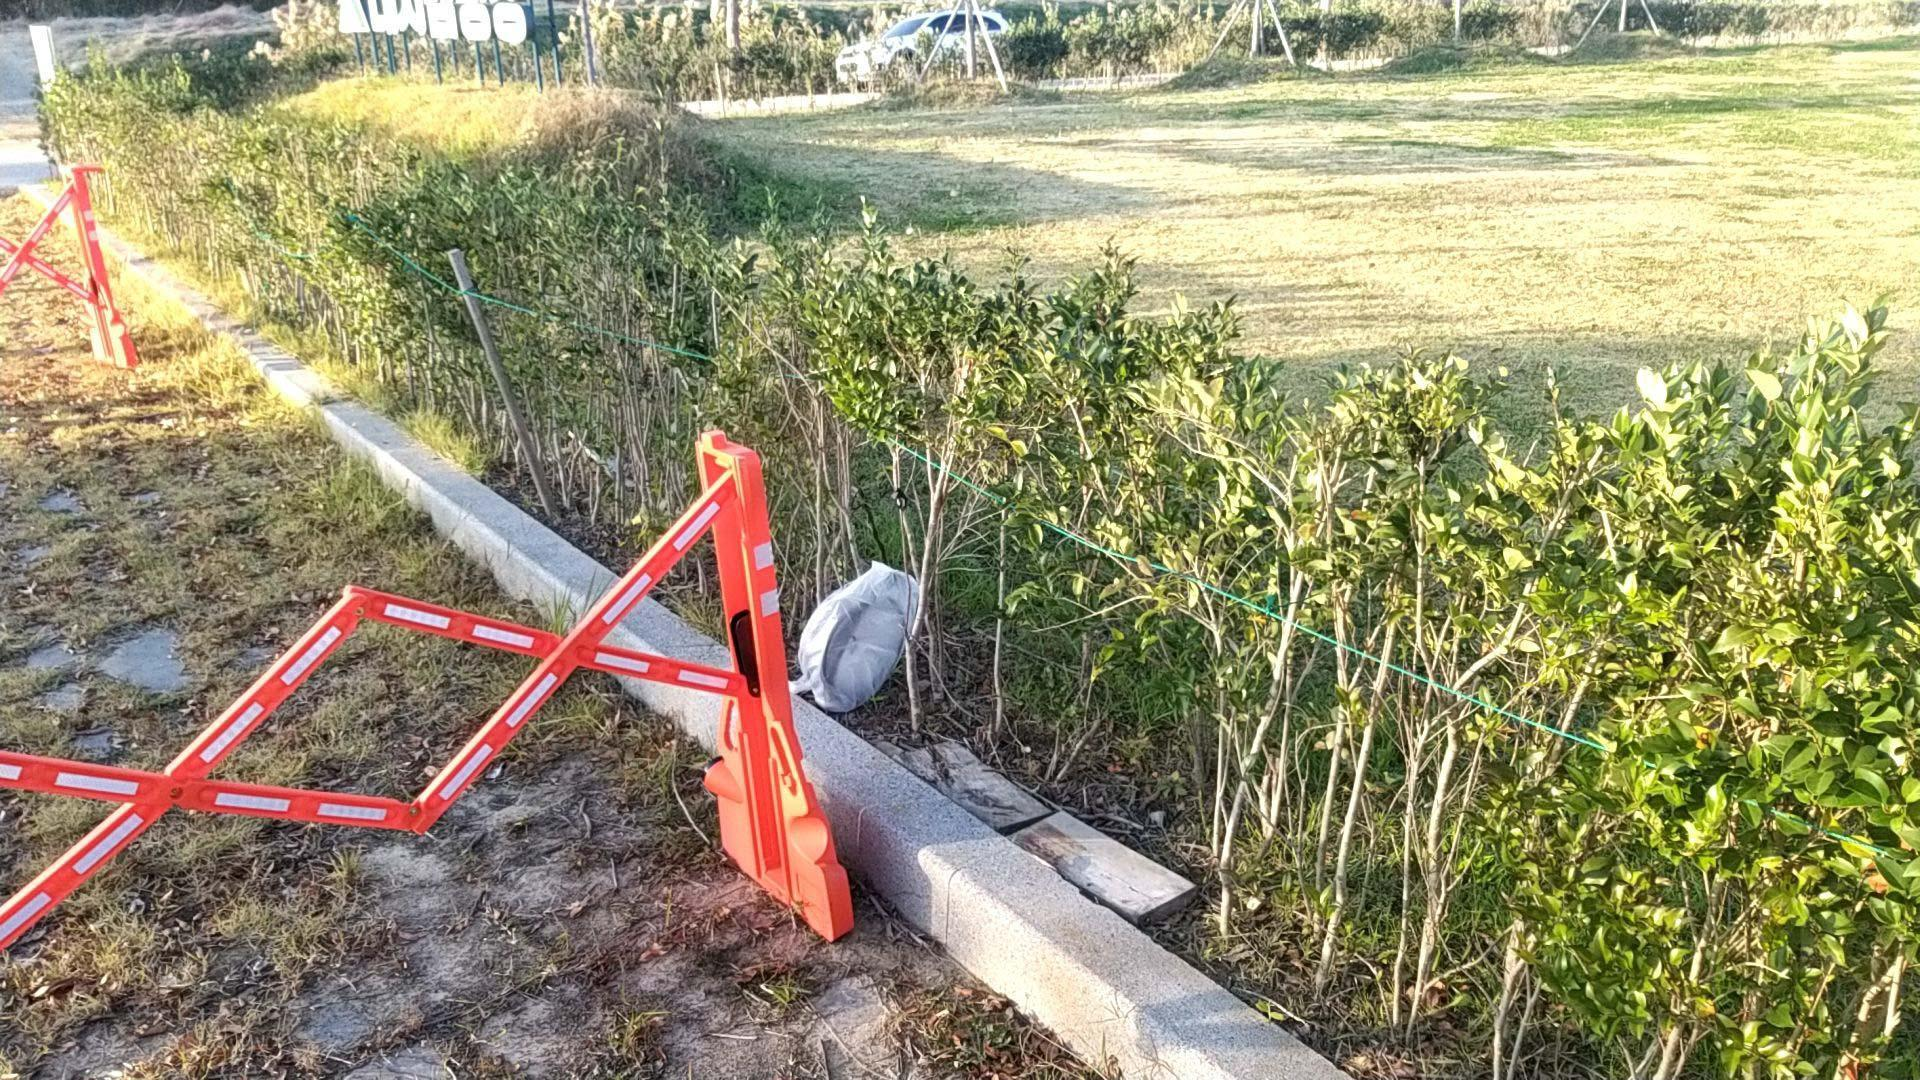white_bag: (779, 550, 924, 721)
